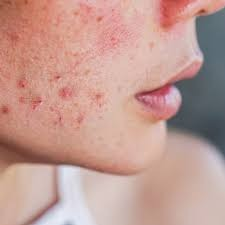Melasma: (0, 0, 135, 154)
